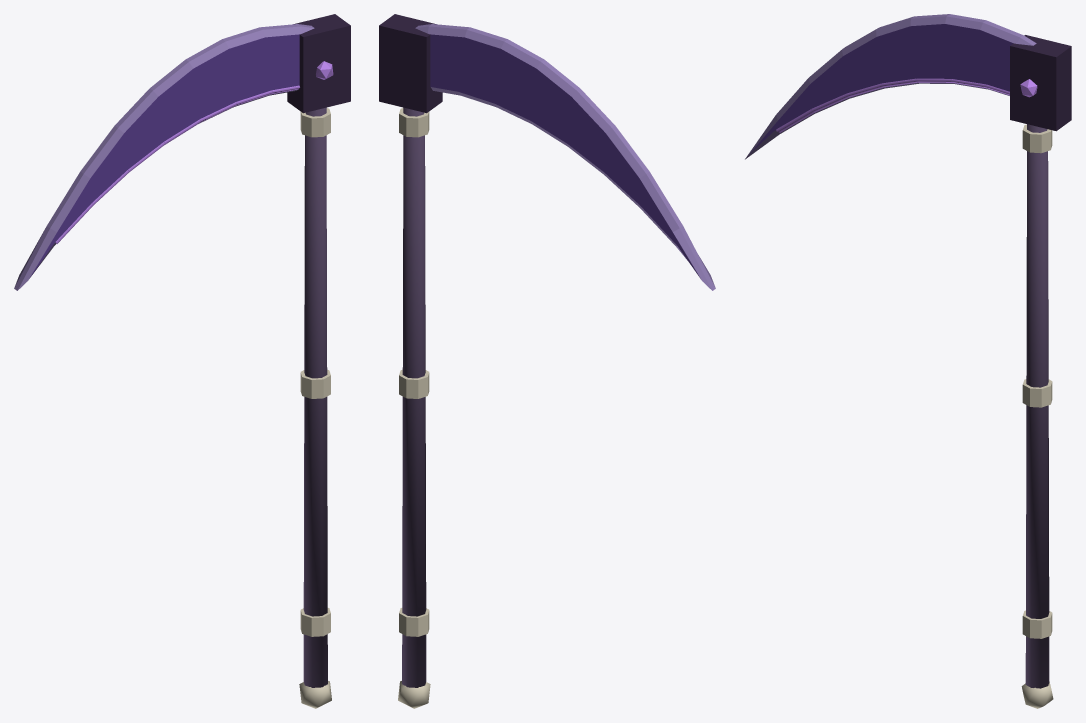
The model's file is death_sickle.glb.
The picture shows the model from 3 angles, left to right: view 1: azimuth 30°, elevation 25°; view 2: azimuth 150°, elevation 25°; view 3: azimuth 330°, elevation 25°; orthographic projection. The views are drawn at different scales.
Visible parts, largest first — view 1: death_sickle_v0; view 2: death_sickle_v0; view 3: death_sickle_v0.
Boxes of the visible parts, x1=… form: death_sickle_v0: x1=14, y1=14, x2=350, y2=708; death_sickle_v0: x1=379, y1=14, x2=715, y2=708; death_sickle_v0: x1=745, y1=14, x2=1071, y2=708.
Bounding box in the file's own units: 0.72 × 1.46 × 0.079.
